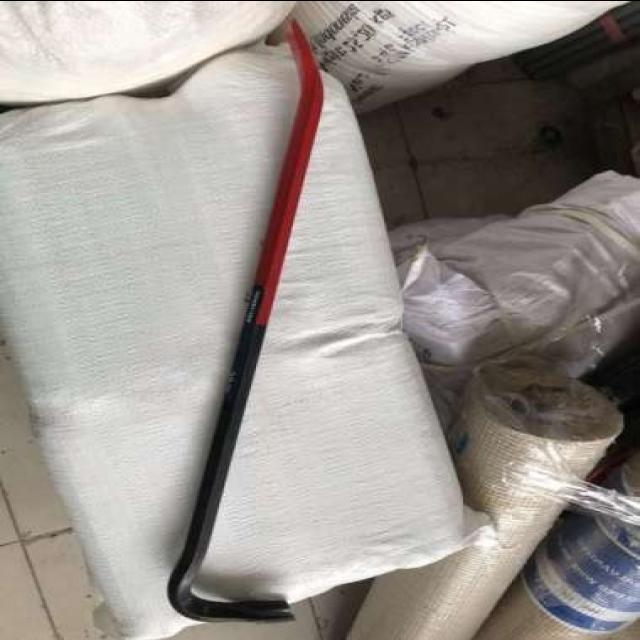Linggis: (164, 22, 338, 624)
